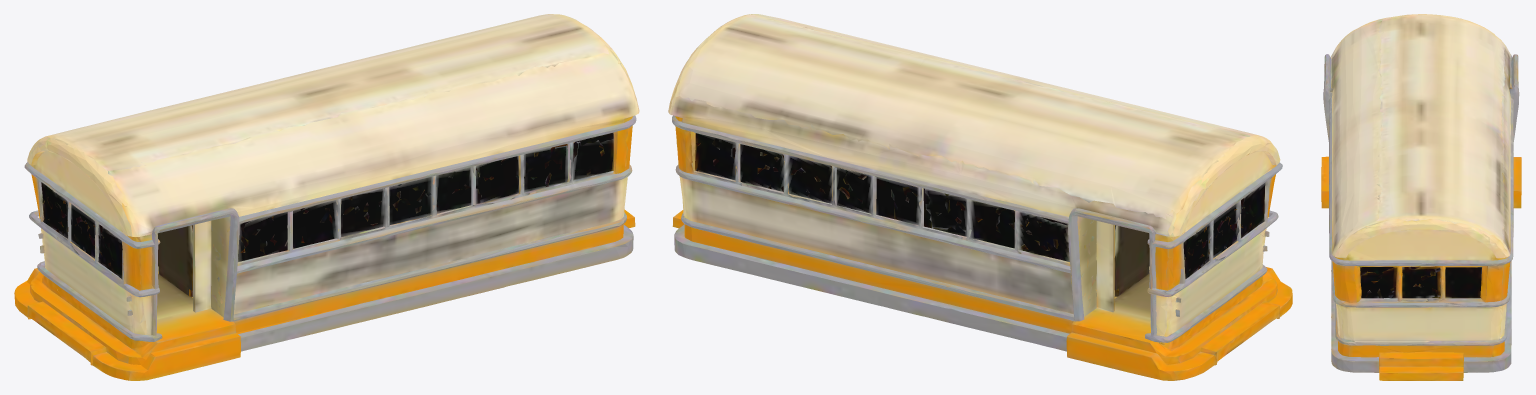
The model's file is diner.glb.
3 views of the same model, side by side, from view 1: azimuth 30°, elevation 25°; view 2: azimuth 150°, elevation 25°; view 3: azimuth 270°, elevation 25° (orthographic). The views are drawn at different scales.
Visible parts, largest first — view 1: geometry_0; view 2: geometry_0; view 3: geometry_0.
Part boxes in pixels (x1,y1,x2,y2): geometry_0: (14, 14, 639, 380); geometry_0: (668, 14, 1292, 380); geometry_0: (1321, 14, 1521, 380).
Bounding box in the file's own units: 1 × 0.3265 × 0.3828.
1 material, 1 textured.
